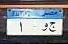1: (18, 21, 24, 33)
jeem: (49, 20, 57, 33)
waw: (41, 22, 48, 33)
